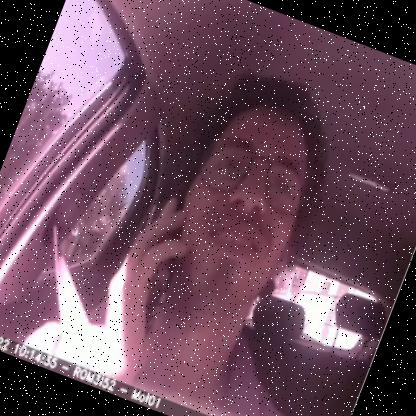phone: (109, 182, 211, 345)
